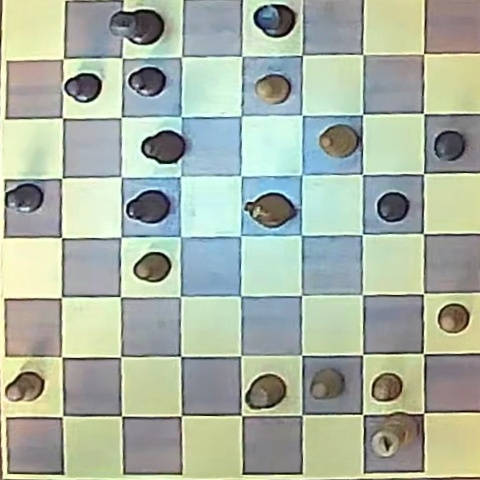black-bishop: (126, 190, 170, 224), (141, 130, 184, 164)
black-king: (111, 8, 164, 46)
black-pawn: (128, 66, 166, 97), (5, 183, 44, 213), (64, 72, 101, 102), (433, 130, 466, 161), (377, 192, 409, 222)
black-rook: (254, 3, 295, 38)
white-bishop: (318, 124, 358, 158)
white-king: (370, 415, 417, 459)
white-knight: (245, 193, 296, 228)
white-pawn: (133, 252, 172, 283), (5, 372, 44, 402), (310, 368, 344, 400), (255, 74, 290, 104), (371, 373, 403, 402), (438, 305, 468, 333)
white-rook: (246, 374, 286, 409)
